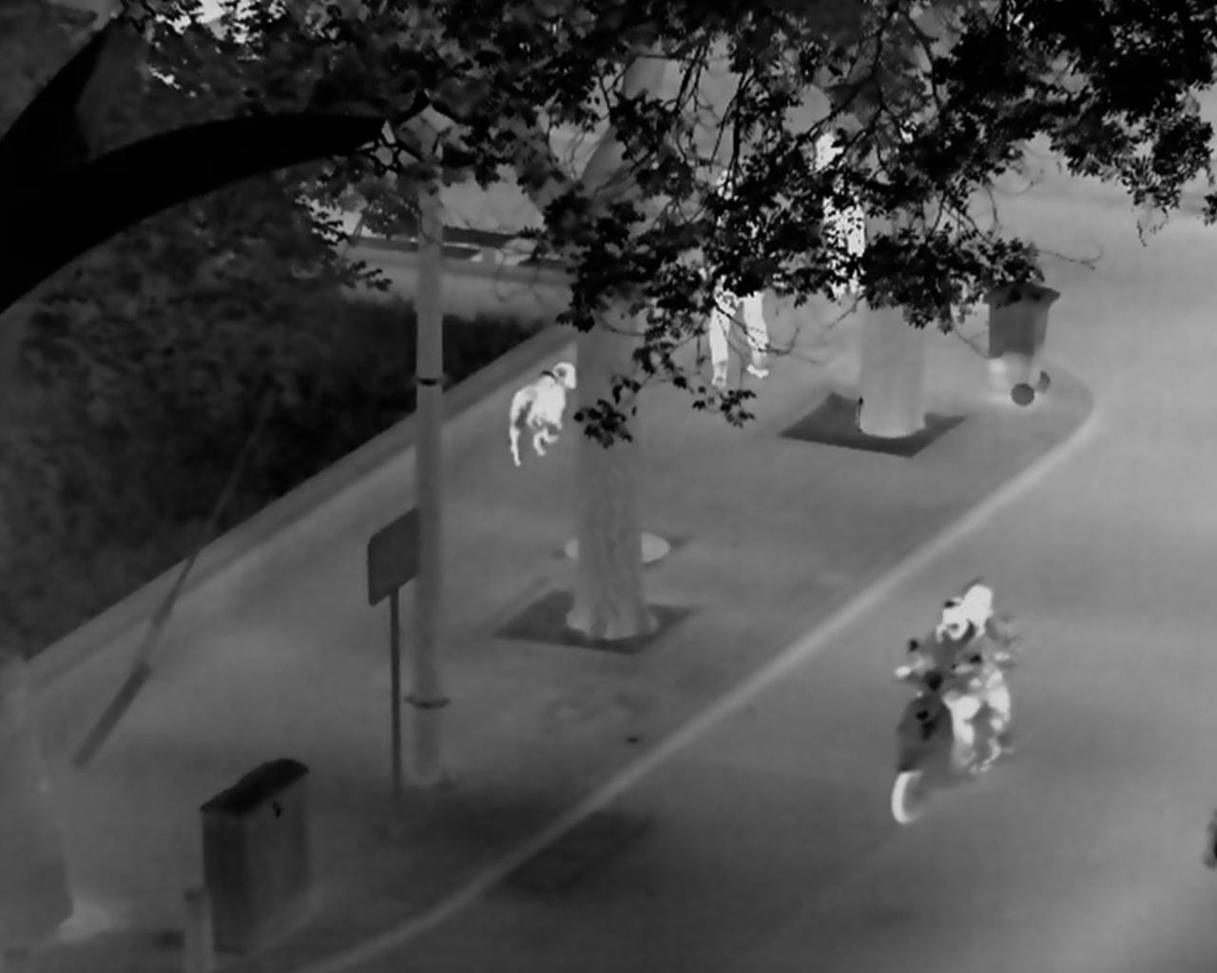person: (897, 595, 989, 769), (701, 165, 772, 387), (802, 131, 869, 297), (963, 578, 1020, 762)
